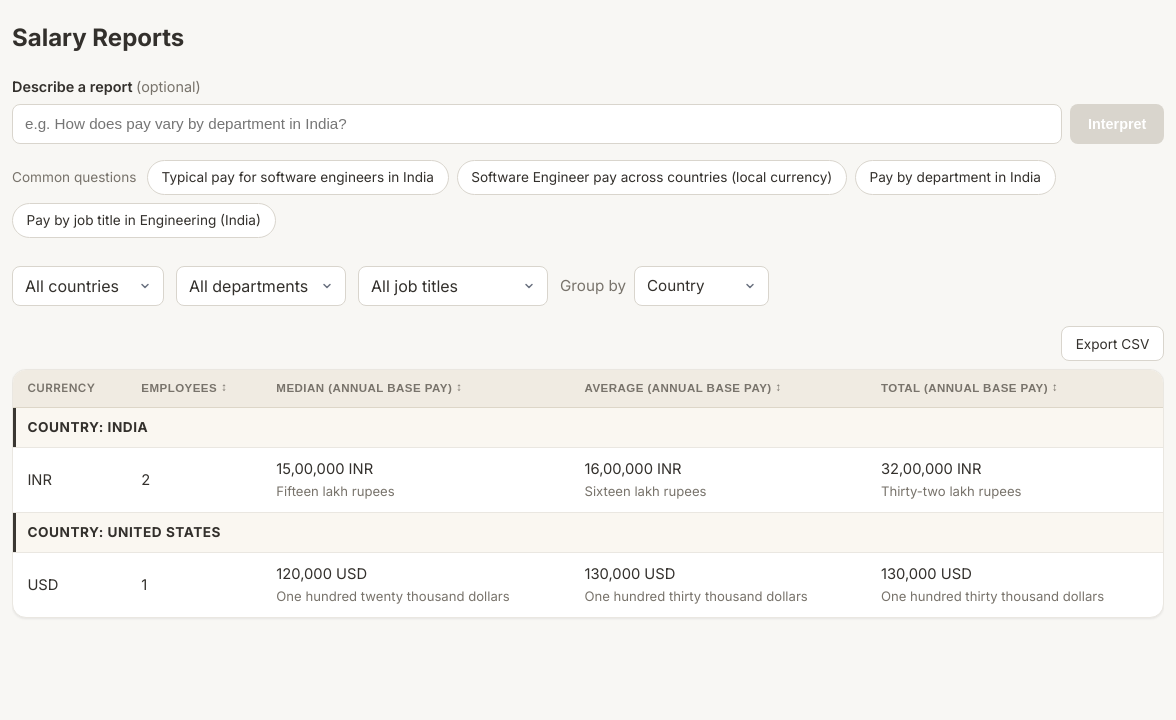
Test: ReportsPage › deselects the preset and clears the filters when clicked again
Click the button "Typical pay for software engineers in India" at x=298, y=177, box [147,160,449,195]
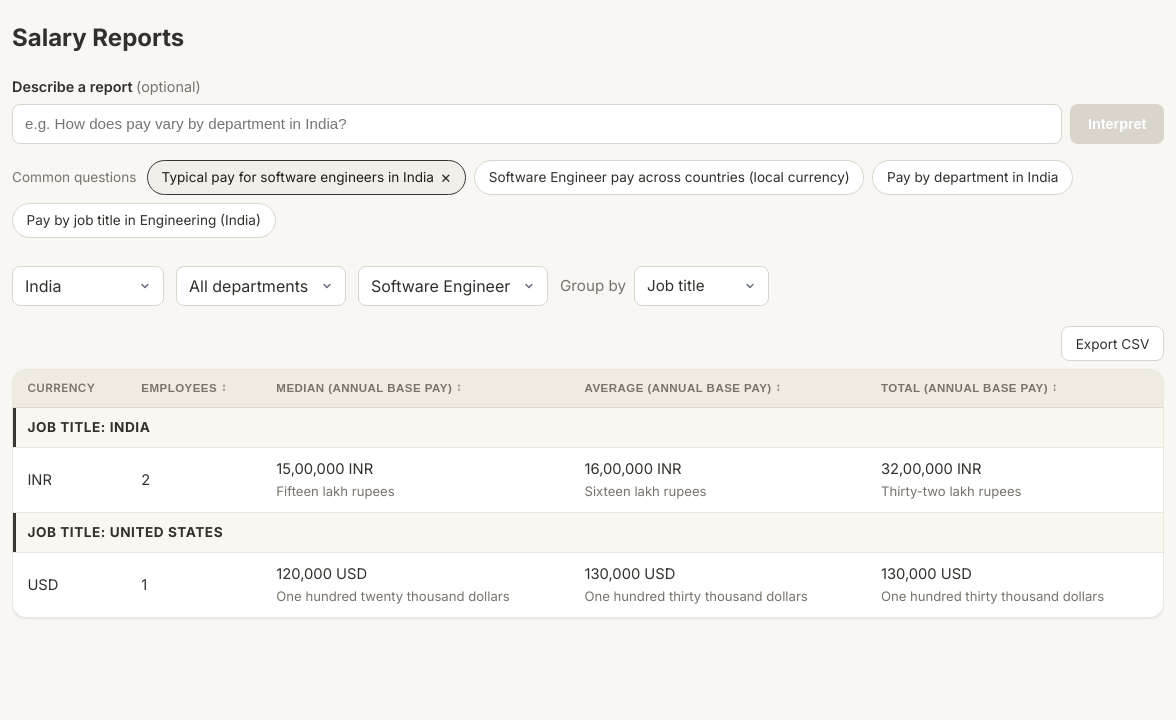
Check: the button "Typical pay for software engineers in India ×" is pressed
# Clicking the active pill turns it off and clears the filters it set.
Click the button "Typical pay for software engineers in India ×" at x=306, y=177, box [147,160,466,195]
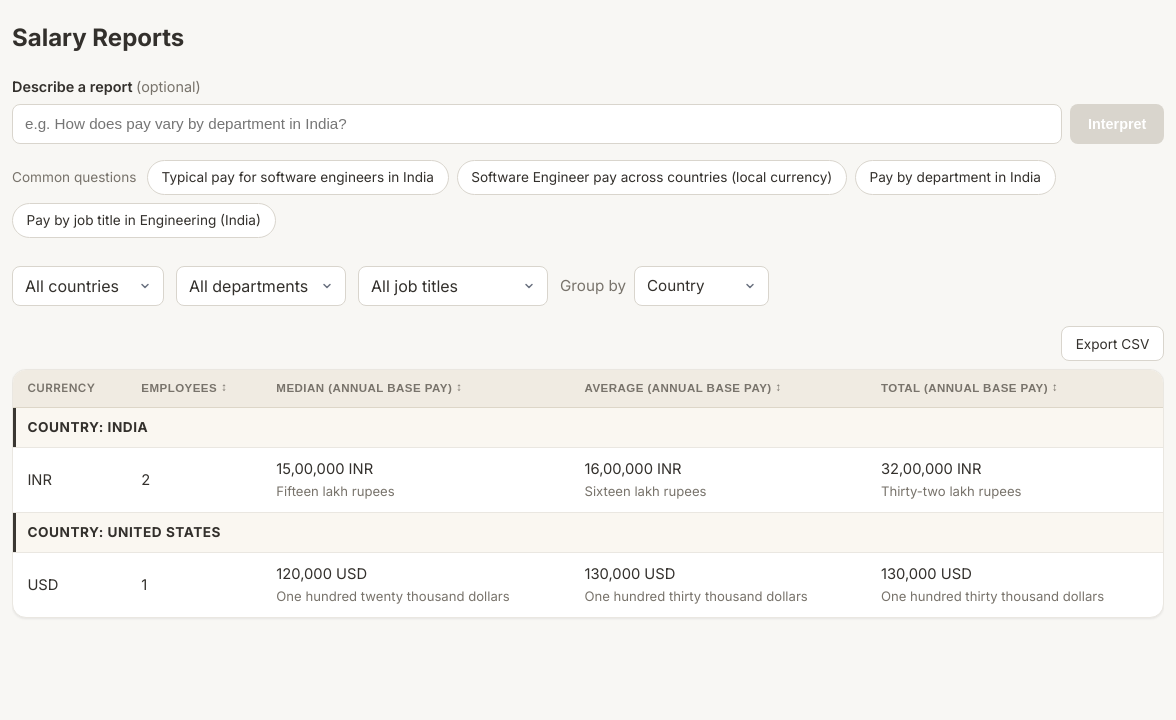
Check: the dropdown named "Country" shows "All countries", box [12,266,164,306]
Check: the dropdown named "Job title" shows "All job titles", box [358,266,548,306]
